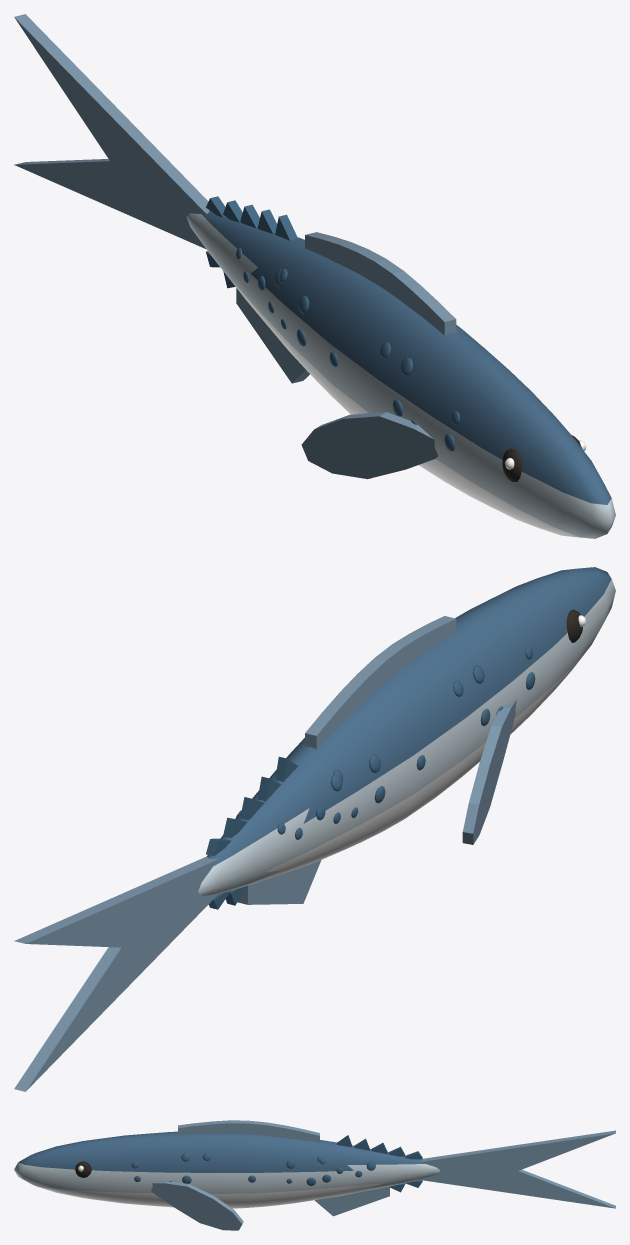
The model's file is sea-spanish-mackerel.glb.
The picture shows the model from 3 angles, top to bottom: view 1: azimuth 30°, elevation 25°; view 2: azimuth 150°, elevation 25°; view 3: azimuth 270°, elevation 25°; orthographic projection. The views are drawn at different scales.
Parts seen in each view (by area): view 1: fish; view 2: fish; view 3: fish.
Boxes of the visible parts, bbox=[...] form: fish: bbox=[14, 14, 615, 538]; fish: bbox=[14, 567, 615, 1091]; fish: bbox=[14, 1120, 615, 1230].
Size of the model in its own units: 0.0888 by 0.0906 by 0.53.
